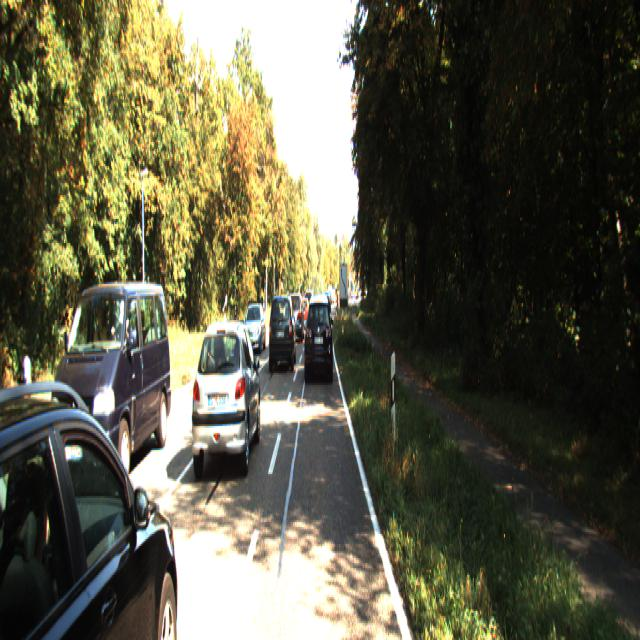Car: (0, 348, 187, 638), (52, 274, 173, 491), (190, 313, 260, 478), (304, 291, 332, 376), (268, 292, 296, 369), (239, 298, 265, 352)
